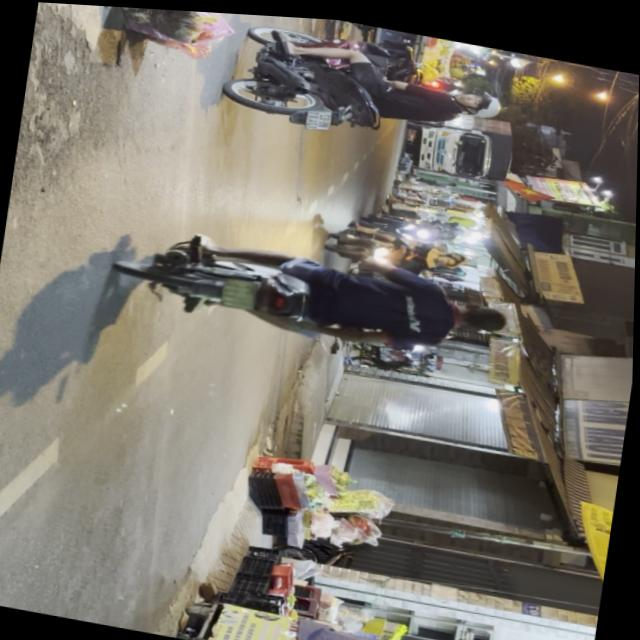helmet: (454, 81, 504, 116)
licenseplate: (121, 215, 519, 372), (220, 12, 512, 159)
motorcyclist: (454, 296, 512, 333)
nohelmet: (223, 275, 259, 309), (306, 102, 333, 129)
